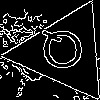Q: (39, 27, 87, 78)
